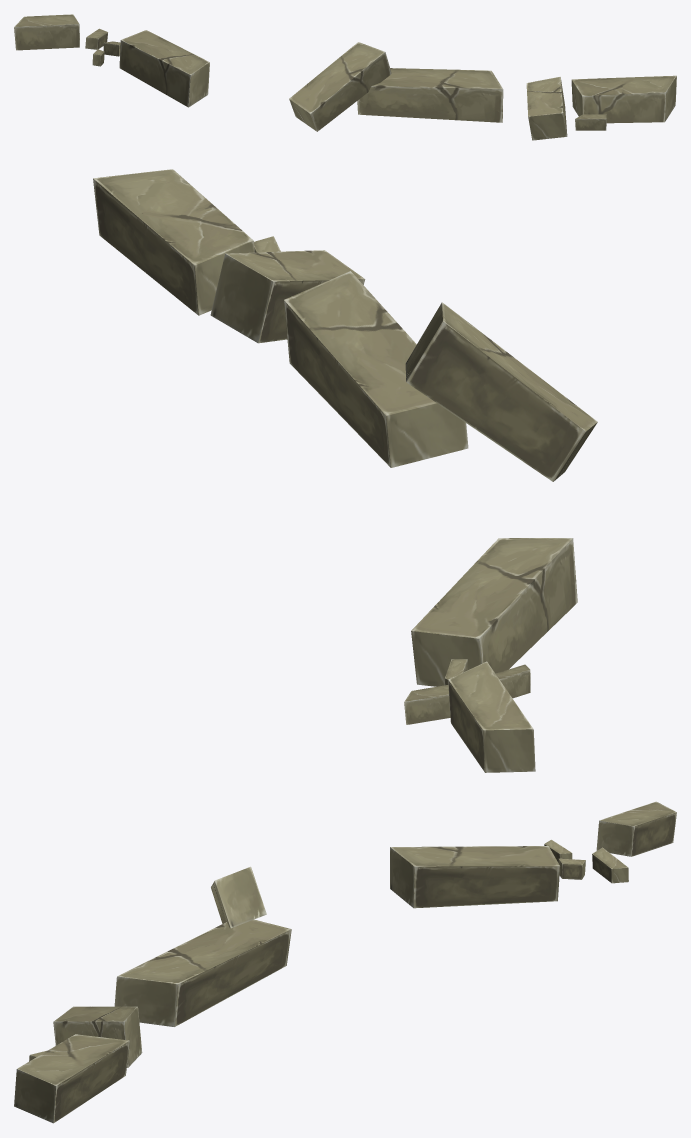
Rendered from wallrocks_convexbase.fbx.
3 renders of one model, top to bottom at view 1: azimuth 30°, elevation 25°; view 2: azimuth 150°, elevation 25°; view 3: azimuth 270°, elevation 25°, orthographic. The views are drawn at different scales.
Parts seen in each view (by area): view 1: rocks9; view 2: rocks9; view 3: rocks9.
Part boxes in pixels (x1,y1,x2,y2): rocks9: (14, 14, 676, 140); rocks9: (93, 169, 597, 772); rocks9: (14, 801, 676, 1123).
Size of the model in its own units: 2.17 by 0.369 by 2.08.
